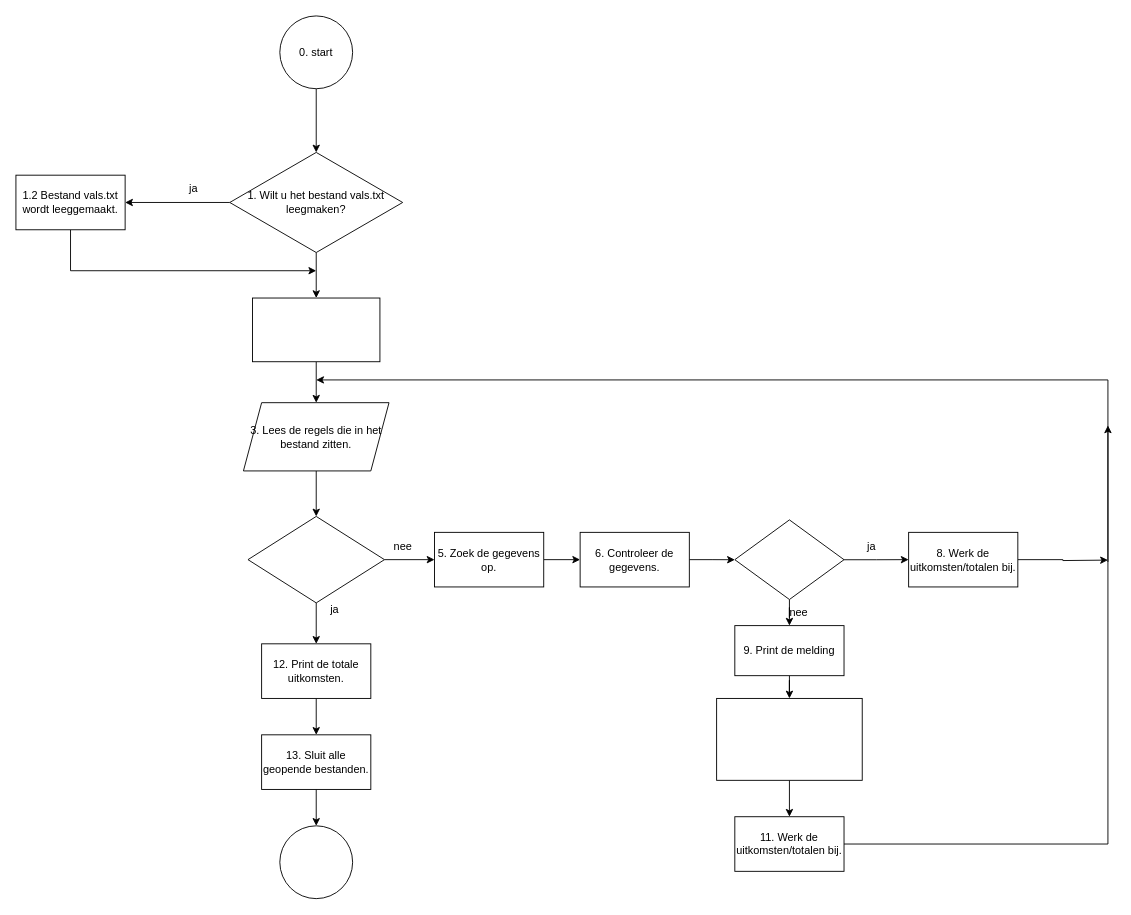
Some shapes in this 1131 by 915 pixel diagram are drawn without their labels. Here are the shapes that lost their labels. From the top down, the centre of each, then its label:
(x=316, y=329): 2. Open de bestanden om het te kunnen lezen.
(x=315, y=559): 4. Laatst bekende data?
(x=789, y=559): 7. Zijn de kenteken en de type in orde?
(x=789, y=739): 10. Vul in bestand vals.txt de kentekens, merk en type gegevens in.
(x=316, y=862): 14. Stop
